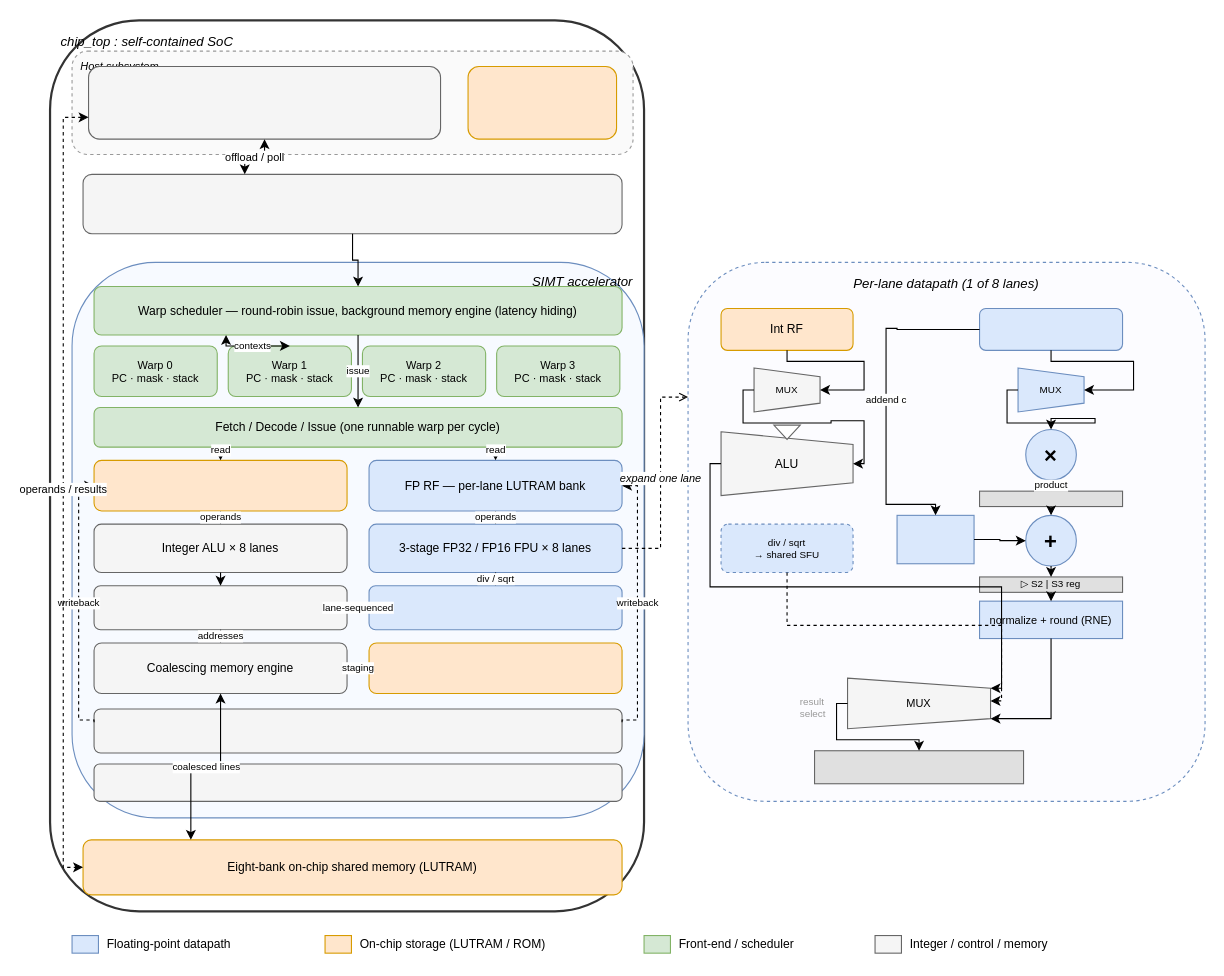
Some shapes in this 1224 by 976 pixel diagram are drawn without their labels. The shapes that lost their labels are listed below. From the top down, each one's centre as x and y in pixels, then its label:
(x=264, y=102): RV32I five-stage host core (IF · ID · EX · MEM · WB)
(x=542, y=102): Driver ROM
(x=352, y=203): MMIO offload registers: kernel PC, base ptrs A/B/C, N, GO / DONE / status
(x=1050, y=328): FP RF
(x=220, y=485): Int VRF — per-lane LUTRAM bank
(x=1050, y=498): ▷ S1 | S2 reg
(x=935, y=539): align (≫) + sticky
(x=220, y=607): Operand collector / lane sequencer
(x=495, y=607): Shared serial Div / Sqrt SFU (×1)
(x=495, y=668): Per-warp scratchpad (LUTRAM)
(x=357, y=730): Writeback + stall scoreboard (W_MEM / W_SFU / W_FPC)
(x=357, y=782): Hardware performance counters (per-mechanism, RTL-measurable)
(x=918, y=767): ▷ Writeback reg → Int VRF / FP RF
